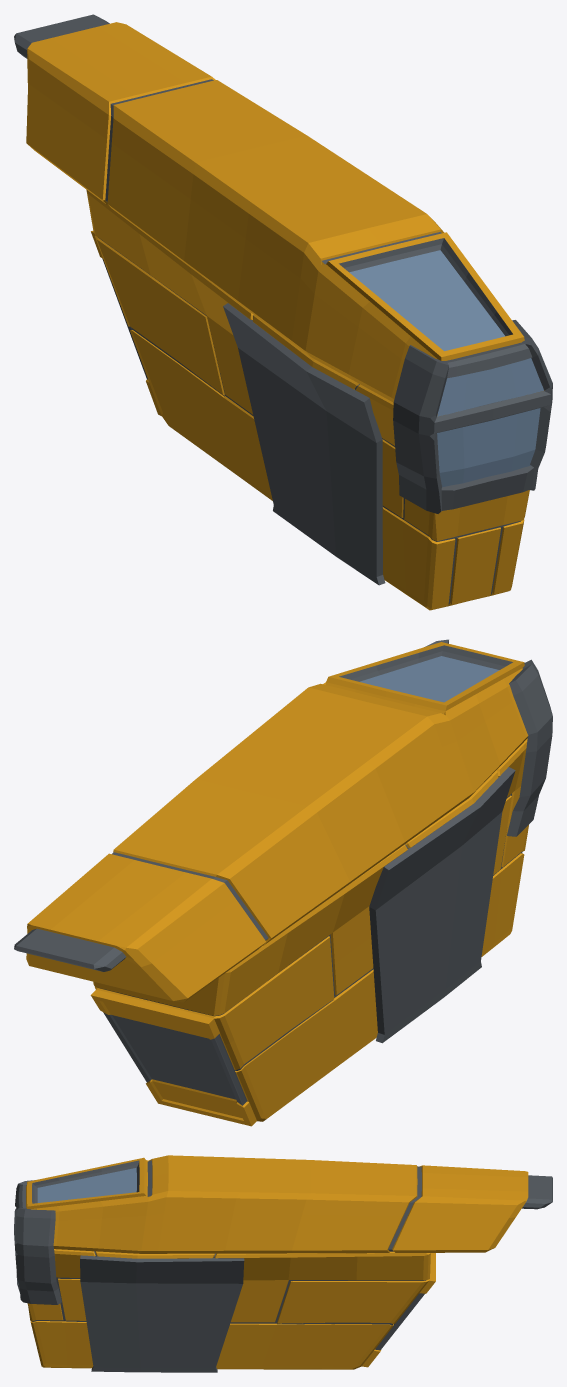
The model's file is Fighter_05_Body_Yellow.fbx.
3 renders of one model, top to bottom at view 1: azimuth 30°, elevation 25°; view 2: azimuth 150°, elevation 25°; view 3: azimuth 270°, elevation 25°, orthographic. The views are drawn at different scales.
Parts seen in each view (by area): view 1: Fighter_05_Body_Yellow; view 2: Fighter_05_Body_Yellow; view 3: Fighter_05_Body_Yellow.
Boxes of the visible parts, bbox=[...] form: Fighter_05_Body_Yellow: bbox=[14, 14, 552, 610]; Fighter_05_Body_Yellow: bbox=[14, 639, 552, 1126]; Fighter_05_Body_Yellow: bbox=[14, 1155, 552, 1372].
Bounding box in the file's own units: 398 × 652 × 1740.
2 materials, 2 textured.
